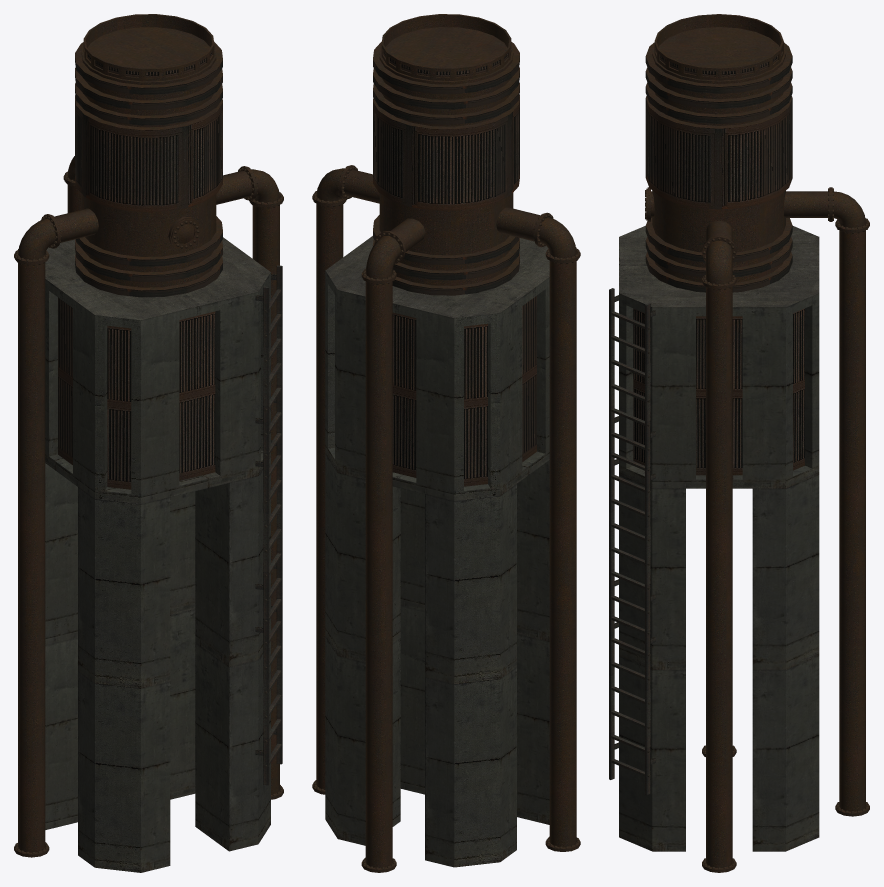
File: boiler_hx_4.glb
The picture shows the model from 3 angles, left to right: view 1: azimuth 30°, elevation 25°; view 2: azimuth 150°, elevation 25°; view 3: azimuth 270°, elevation 25°; orthographic projection.
Parts seen in each view (by area): view 1: boiler_hx_4; view 2: boiler_hx_4; view 3: boiler_hx_4.
Boxes of the visible parts, x1,y1,x2,y2 form: boiler_hx_4: [14, 14, 283, 872]; boiler_hx_4: [312, 14, 580, 872]; boiler_hx_4: [609, 14, 869, 872].
Size of the model in its own units: 4.52 by 12.7 by 3.91.
5 materials, 5 textured.
